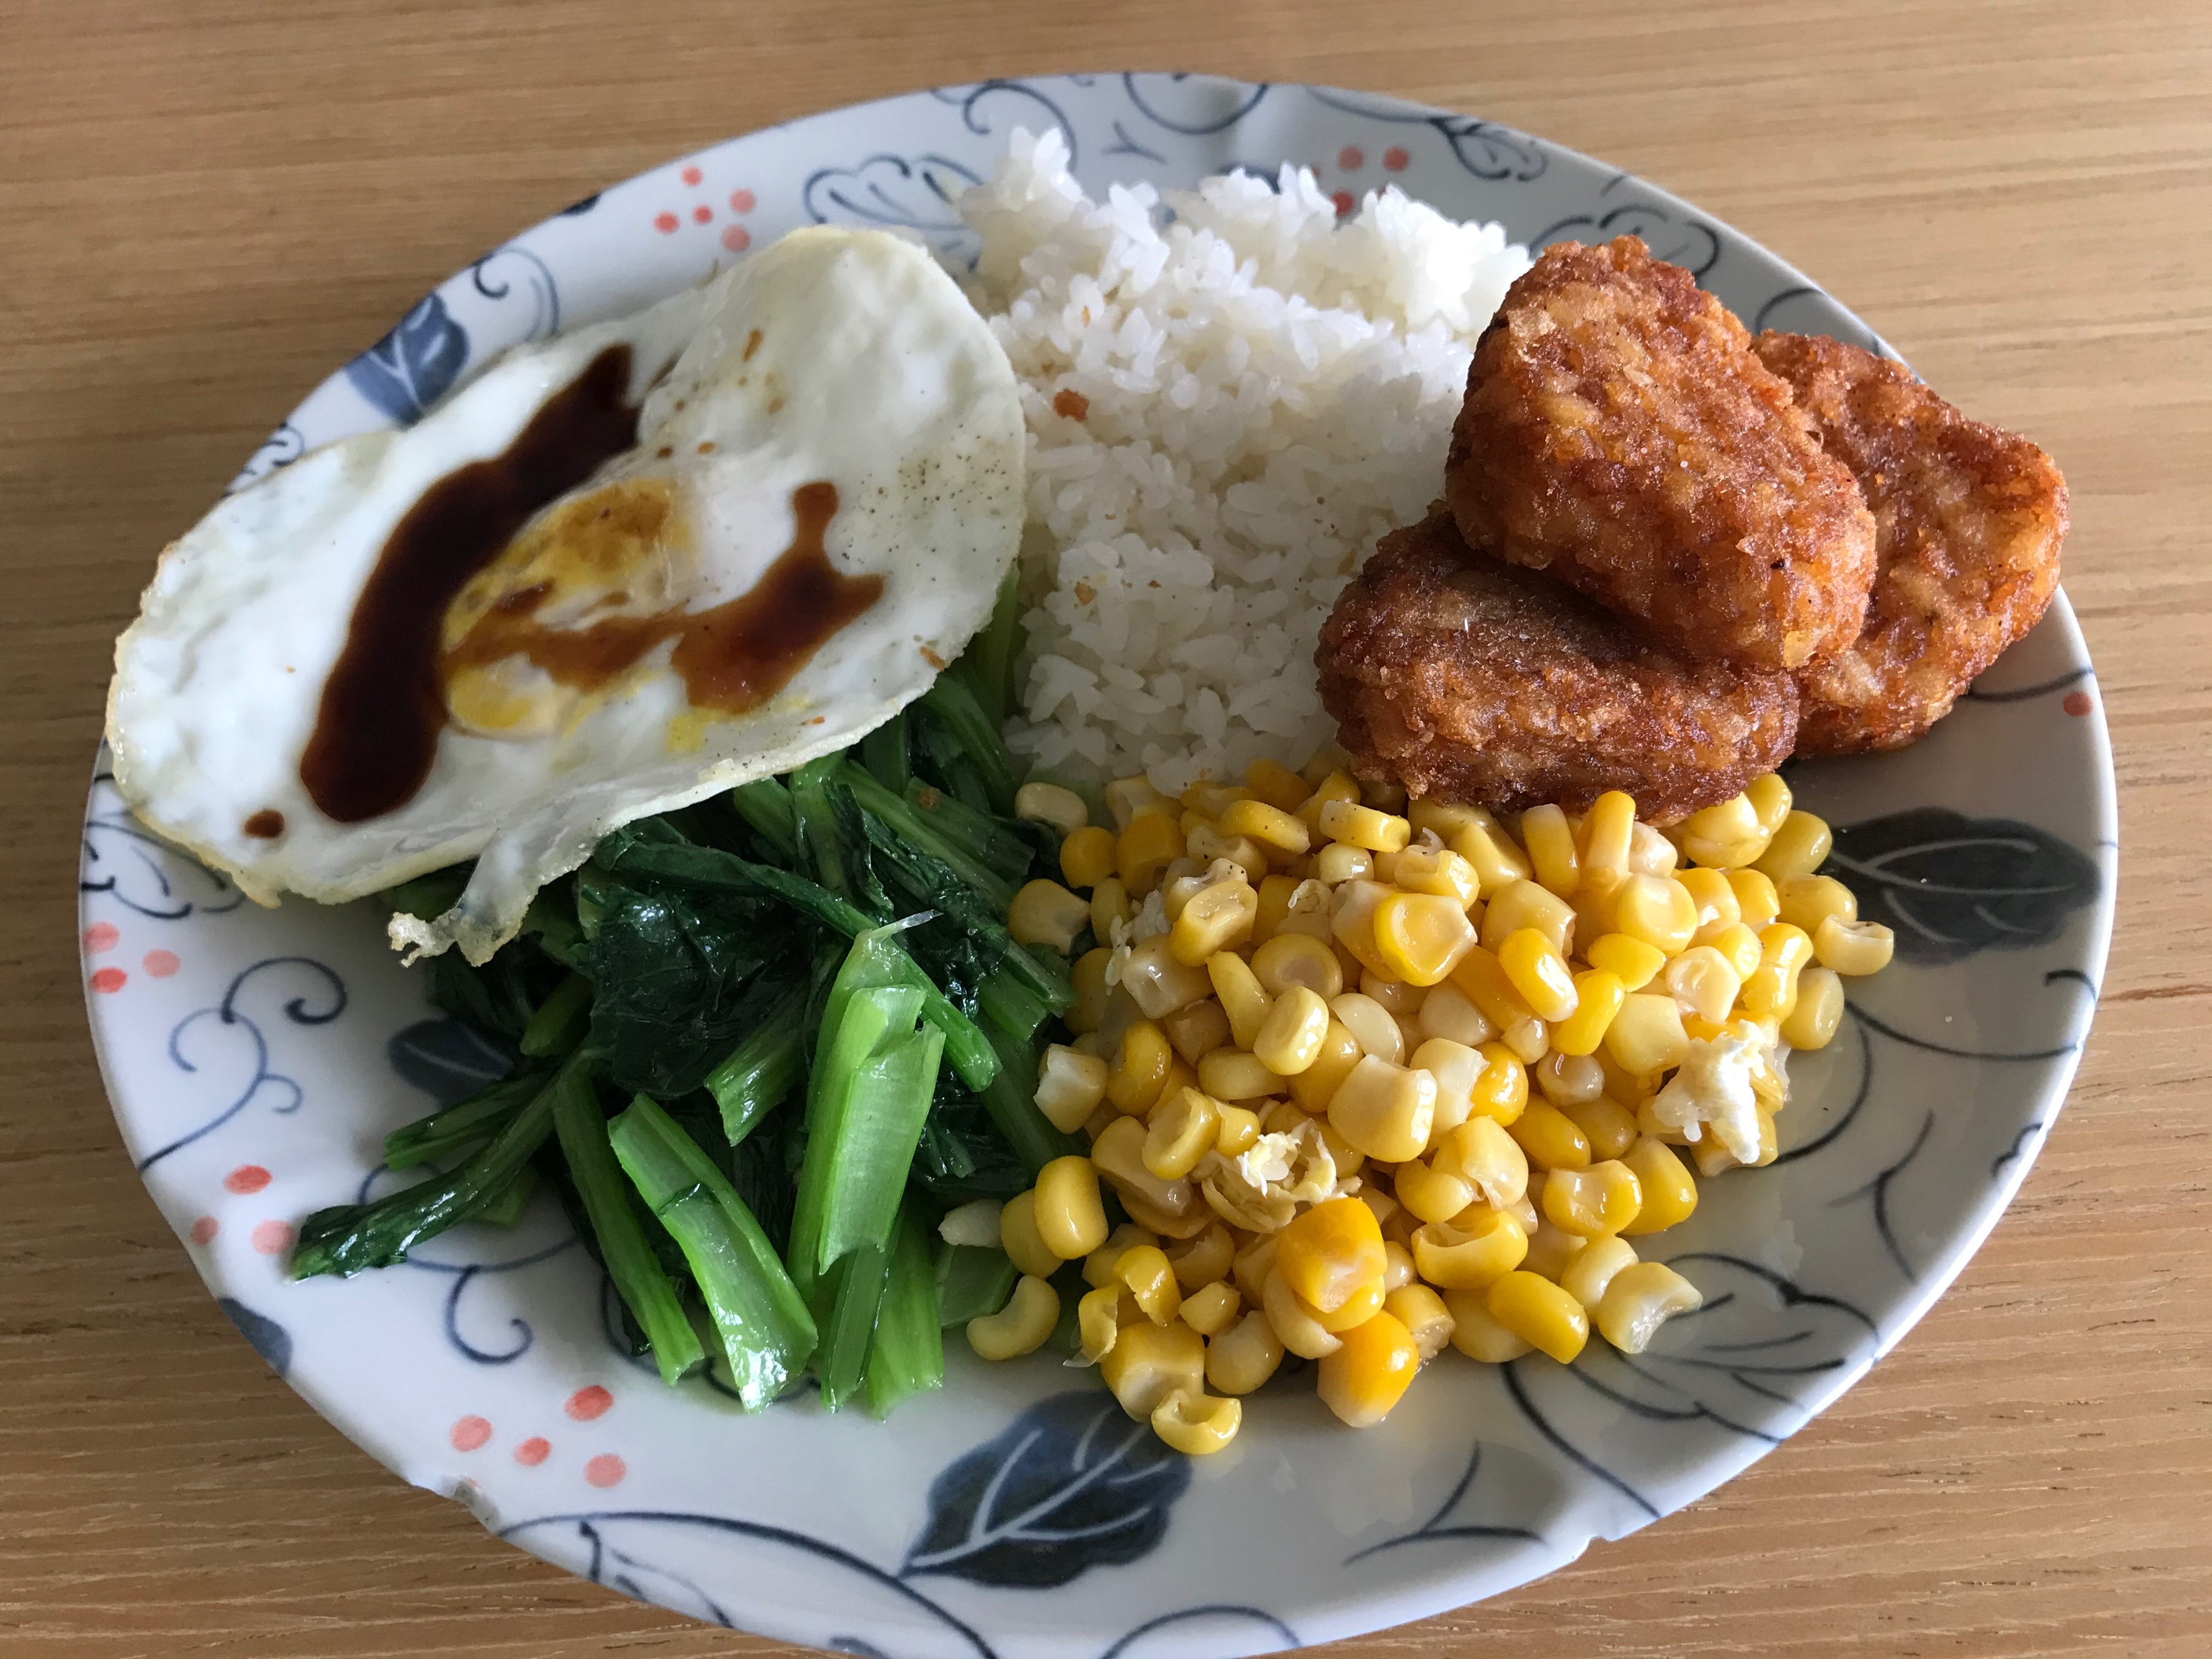fried_eggs: (106, 227, 1022, 892)
rice: (1024, 167, 1477, 769)
triangle_hash_brown: (1329, 230, 2067, 810)
water_spinach: (423, 762, 1024, 1429)
